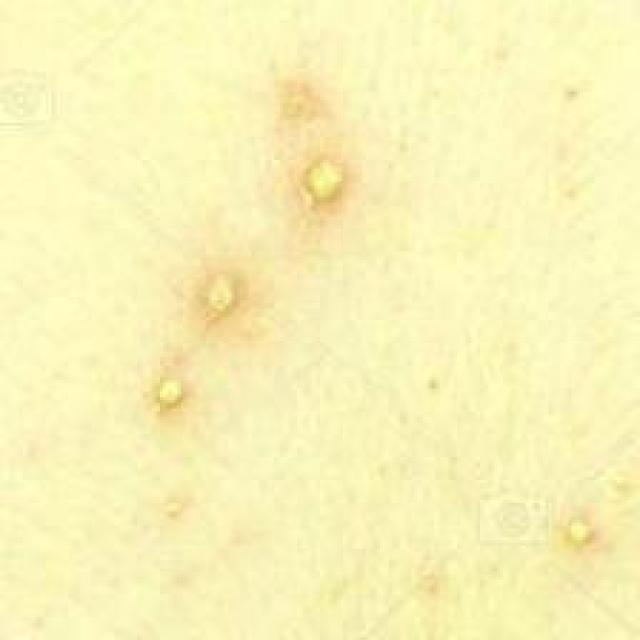others: (95, 80, 627, 640)
